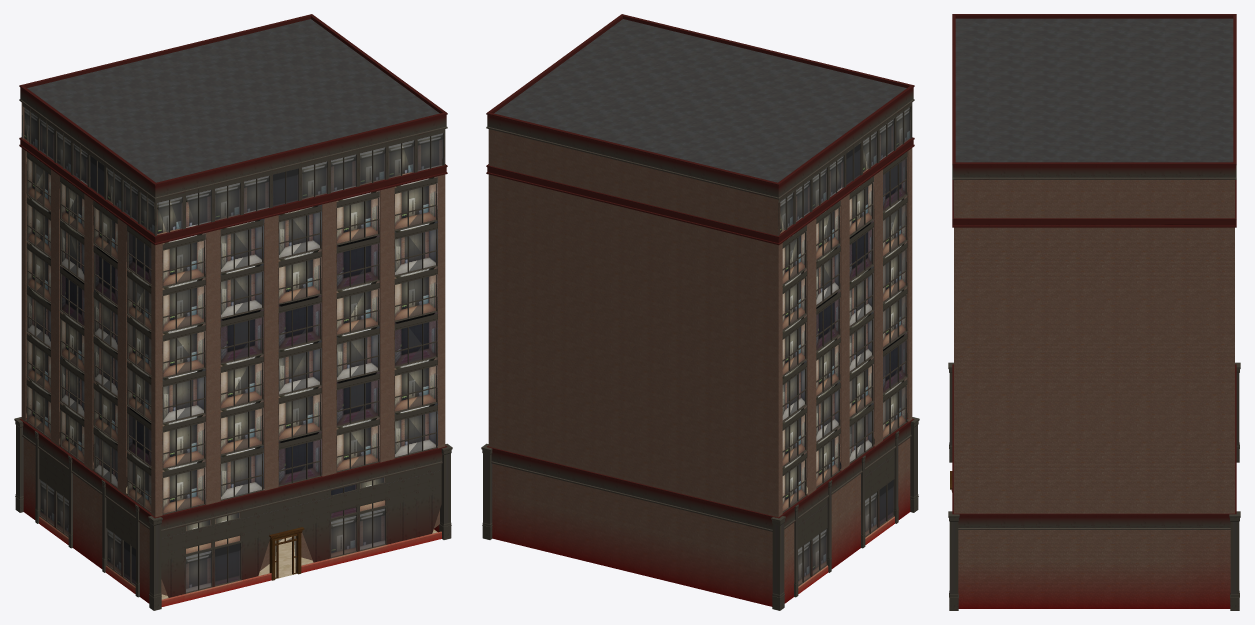
Rendered from causeway-point-mall_lod2.glb.
3 renders of one model, left to right at view 1: azimuth 30°, elevation 25°; view 2: azimuth 150°, elevation 25°; view 3: azimuth 270°, elevation 25°, orthographic. The views are drawn at different scales.
Bounding box in the file's own units: 20.64 × 28 × 16.64.
Materials: 9 (8 with a texture image).
